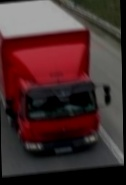truck: (0, 0, 116, 159)
